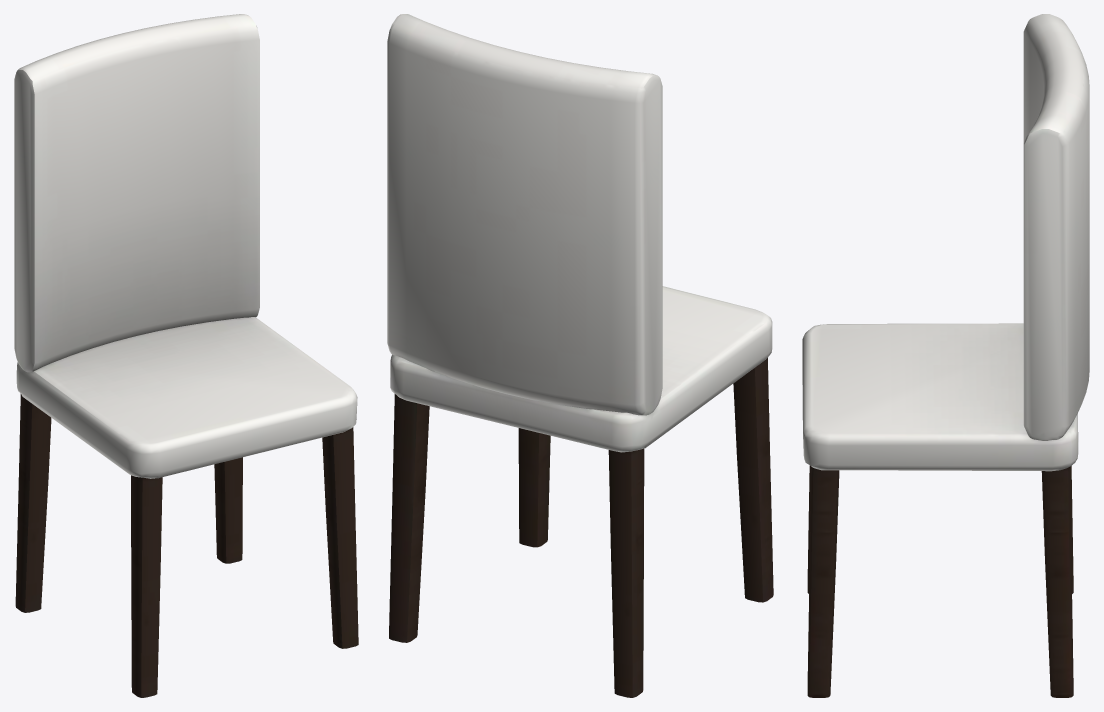
The model's file is dining_chair_white.glb.
3 renders of one model, left to right at view 1: azimuth 30°, elevation 25°; view 2: azimuth 150°, elevation 25°; view 3: azimuth 270°, elevation 25°, orthographic. The views are drawn at different scales.
Visible parts, largest first — view 1: dining_chair_white; view 2: dining_chair_white; view 3: dining_chair_white.
Boxes of the visible parts, <box> form: dining_chair_white: <box>14,14,358,697</box>; dining_chair_white: <box>387,14,773,697</box>; dining_chair_white: <box>802,14,1089,697</box>.
Size of the model in its own units: 0.4822 by 1.1 by 0.5012.
1 material, 1 textured.
